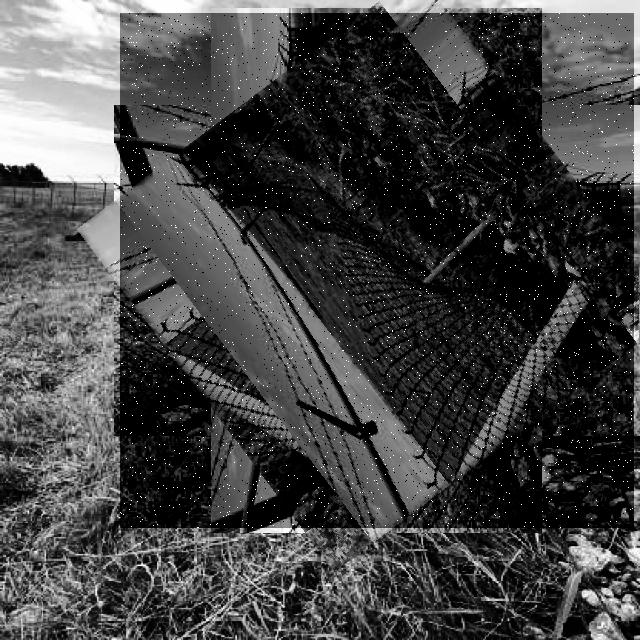anomaly-fence: (120, 13, 634, 528)
